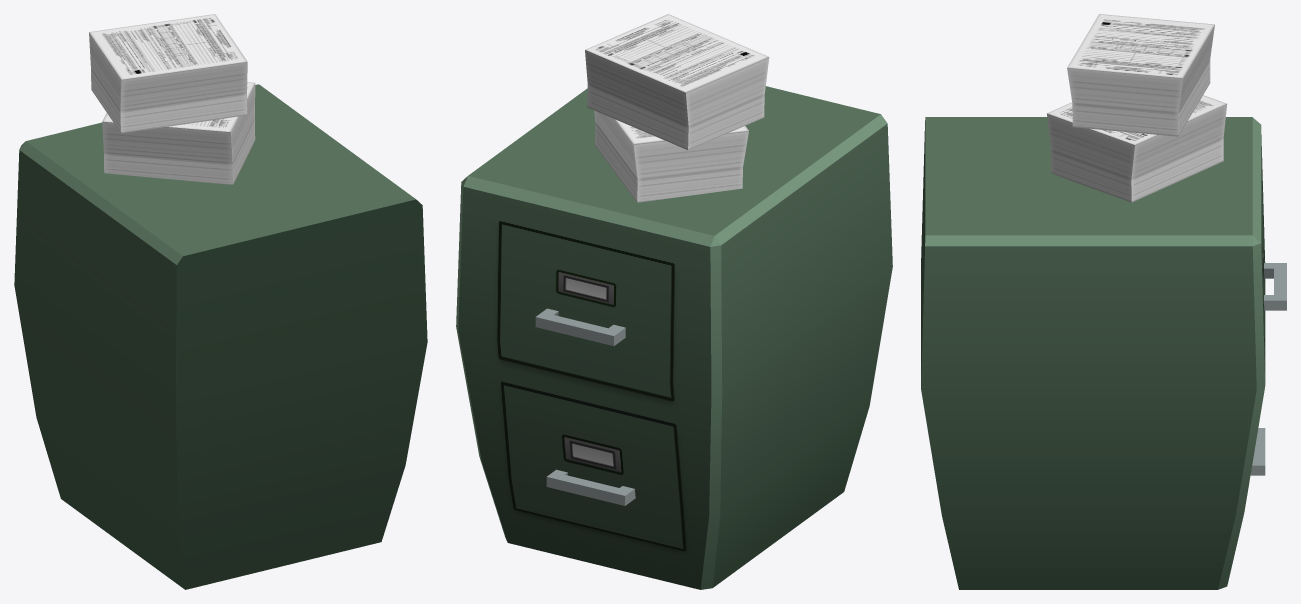
The model's file is SM_Cabinet_1x2.fbx.
The picture shows the model from 3 angles, left to right: view 1: azimuth 30°, elevation 25°; view 2: azimuth 150°, elevation 25°; view 3: azimuth 270°, elevation 25°; orthographic projection. The views are drawn at different scales.
Visible parts, largest first — view 1: SM_paPer_stack1; view 2: SM_paPer_stack1; view 3: SM_paPer_stack1.
Part boxes in pixels (bbox=[...]): SM_paPer_stack1: bbox=[14, 14, 427, 589]; SM_paPer_stack1: bbox=[456, 14, 892, 589]; SM_paPer_stack1: bbox=[921, 14, 1286, 589].
Bounding box in the file's own units: 76.47 × 135 × 92.56.
Materials: 3 (3 with a texture image).
